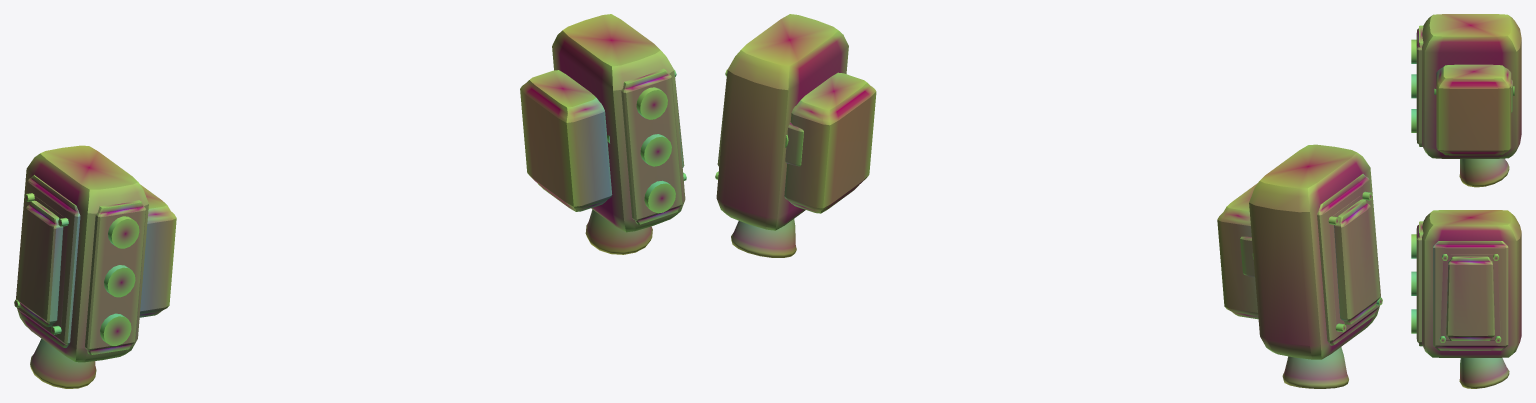
File: llm_gen_leg_thrusters_044_605acf.glb
3 views of the same model, side by side, from view 1: azimuth 30°, elevation 25°; view 2: azimuth 150°, elevation 25°; view 3: azimuth 270°, elevation 25° (orthographic). The views are drawn at different scales.
Visible parts, largest first — view 1: leg_missile_hull_0_wing_white_r, adapter_calf_clamp_r, leg_missile_hull_0_wing_white_l, leg_pod_armor_cover_6_titanium_silver_l, adapter_sub_missile_bezel_dark_1_adapter_dark_l, adapter_sub_missile_bezel_dark_1_adapter_dark_r, adapter_calf_clamp_l, adapter_sub_side_frame_dark_5_adapter_dark_l, leg_ankle_bell_7_vernier_bell_vernier_l, leg_ankle_bell_7_vernier_bell_vernier_r, leg_cell_top_2_amber_optic_r, leg_cell_top_2_amber_optic_l (+4 smaller); view 2: leg_missile_hull_0_wing_white_r, leg_missile_hull_0_wing_white_l, adapter_calf_clamp_r, leg_pod_armor_cover_6_titanium_silver_l, adapter_calf_clamp_l, adapter_sub_side_frame_dark_5_adapter_dark_l, leg_ankle_bell_7_vernier_bell_vernier_l, leg_ankle_bell_7_vernier_bell_vernier_r, adapter_leg_tank_collar_dark_8_adapter_dark_r; view 3: leg_missile_hull_0_wing_white_l, adapter_calf_clamp_l, leg_missile_hull_0_wing_white_r, leg_pod_armor_cover_6_titanium_silver_r, adapter_sub_side_frame_dark_5_adapter_dark_r, leg_ankle_bell_7_vernier_bell_vernier_r, leg_ankle_bell_7_vernier_bell_vernier_l, adapter_sub_missile_bezel_dark_1_adapter_dark_r, adapter_sub_missile_bezel_dark_1_adapter_dark_l, leg_cell_top_2_amber_optic_r, leg_cell_top_2_amber_optic_l, leg_cell_mid_3_amber_optic_r (+3 smaller).
Part boxes in pixels (x1,y1,x2,y2): leg_missile_hull_0_wing_white_r: (552,14,685,232); adapter_calf_clamp_r: (520,70,612,211); leg_missile_hull_0_wing_white_l: (16,145,148,362); leg_pod_armor_cover_6_titanium_silver_l: (14,193,68,334); adapter_sub_missile_bezel_dark_1_adapter_dark_l: (85,200,146,354); adapter_sub_missile_bezel_dark_1_adapter_dark_r: (621,68,682,224); adapter_calf_clamp_l: (139,184,176,317); adapter_sub_side_frame_dark_5_adapter_dark_l: (17,175,80,347); leg_ankle_bell_7_vernier_bell_vernier_l: (30,338,96,388); leg_ankle_bell_7_vernier_bell_vernier_r: (585,209,652,254); leg_cell_top_2_amber_optic_r: (636,87,667,119); leg_cell_top_2_amber_optic_l: (108,216,139,248); leg_missile_hull_0_wing_white_r: (716,14,848,230); leg_missile_hull_0_wing_white_l: (1249,144,1380,359); adapter_calf_clamp_r: (784,72,876,213); leg_pod_armor_cover_6_titanium_silver_l: (1328,191,1382,332); adapter_calf_clamp_l: (1217,183,1258,319); adapter_sub_side_frame_dark_5_adapter_dark_l: (1317,174,1379,345); leg_ankle_bell_7_vernier_bell_vernier_l: (1282,347,1348,388); leg_ankle_bell_7_vernier_bell_vernier_r: (731,219,796,257); adapter_leg_tank_collar_dark_8_adapter_dark_r: (785,122,803,166); leg_missile_hull_0_wing_white_l: (1422,14,1521,158); adapter_calf_clamp_l: (1436,64,1511,155); leg_missile_hull_0_wing_white_r: (1422,210,1521,357); leg_pod_armor_cover_6_titanium_silver_r: (1439,254,1501,342); adapter_sub_side_frame_dark_5_adapter_dark_r: (1433,241,1508,350); leg_ankle_bell_7_vernier_bell_vernier_r: (1459,358,1509,388); leg_ankle_bell_7_vernier_bell_vernier_l: (1459,158,1509,187); adapter_sub_missile_bezel_dark_1_adapter_dark_r: (1416,221,1423,346); adapter_sub_missile_bezel_dark_1_adapter_dark_l: (1416,25,1423,146); leg_cell_top_2_amber_optic_r: (1411,234,1416,258); leg_cell_top_2_amber_optic_l: (1411,39,1416,63); leg_cell_mid_3_amber_optic_r: (1411,271,1416,295).
Size of the model in its own units: 81.56 by 26.26 by 16.2.
